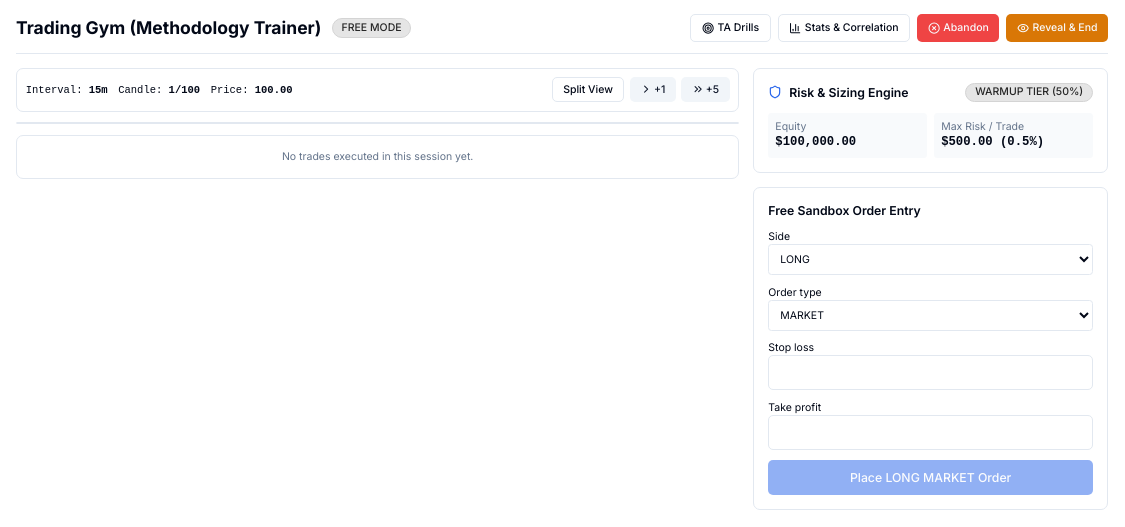
it: Gym page integration › renders the score delivered by reveal instead of claiming zero trades
Click the button "Reveal & End": (1057, 28) [1006,14,1108,42]
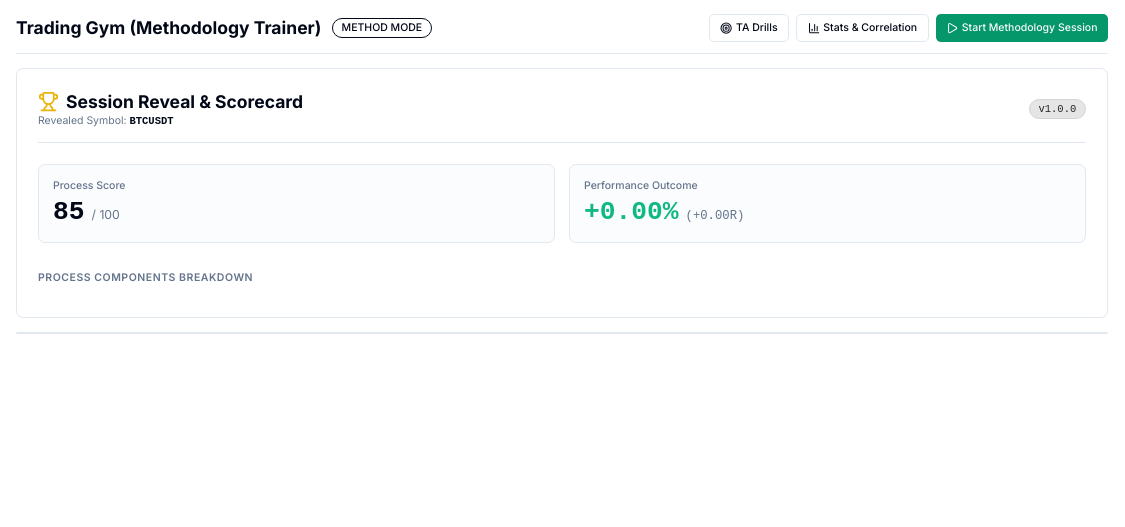
Expected: the heading "Session Reveal & Scorecard" is shown, [38,90,303,114]
Expected: the text "85" is shown, [53,196,84,228]
